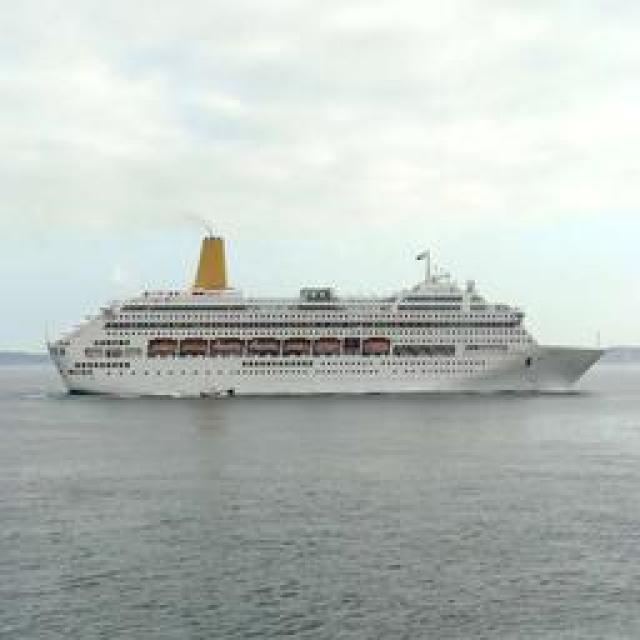CIV_Ship: (46, 234, 614, 402)
